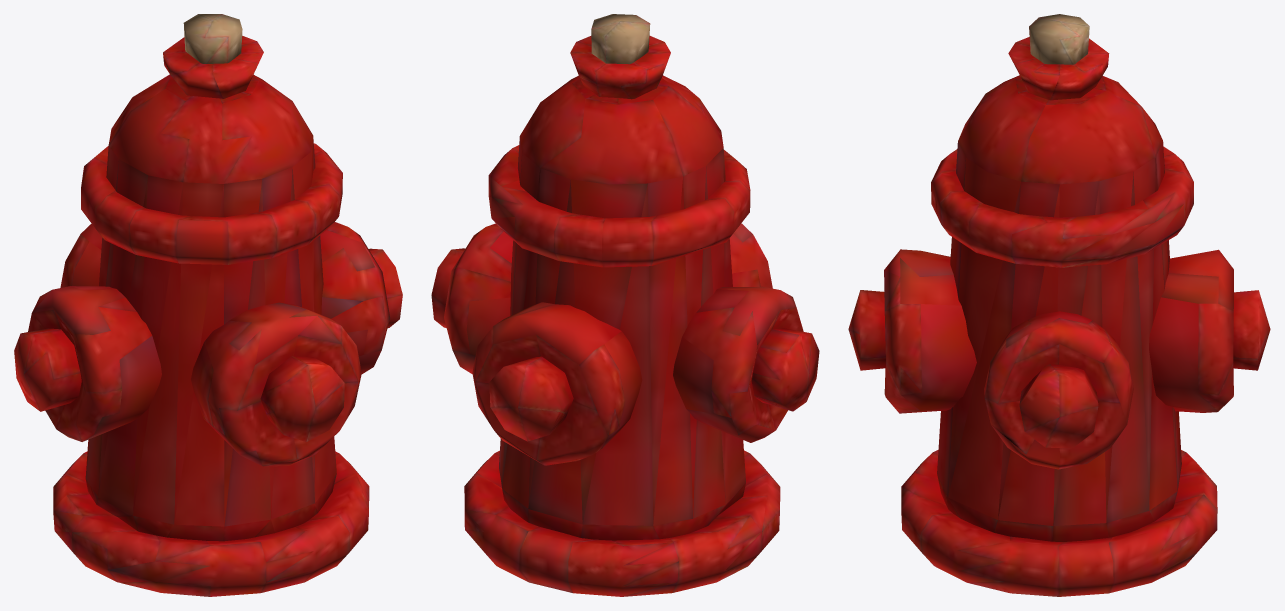
Rendered from hydrant.glb.
3 views of the same model, side by side, from view 1: azimuth 30°, elevation 25°; view 2: azimuth 150°, elevation 25°; view 3: azimuth 270°, elevation 25° (orthographic).
Parts seen in each view (by area): view 1: geometry_0; view 2: geometry_0; view 3: geometry_0.
Boxes of the visible parts, x1=… form: geometry_0: x1=14, y1=14, x2=402, y2=596; geometry_0: x1=431, y1=14, x2=819, y2=596; geometry_0: x1=848, y1=14, x2=1270, y2=596.
Bounding box in the file's own units: 0.749 × 1 × 0.7436.
1 material, 1 textured.
